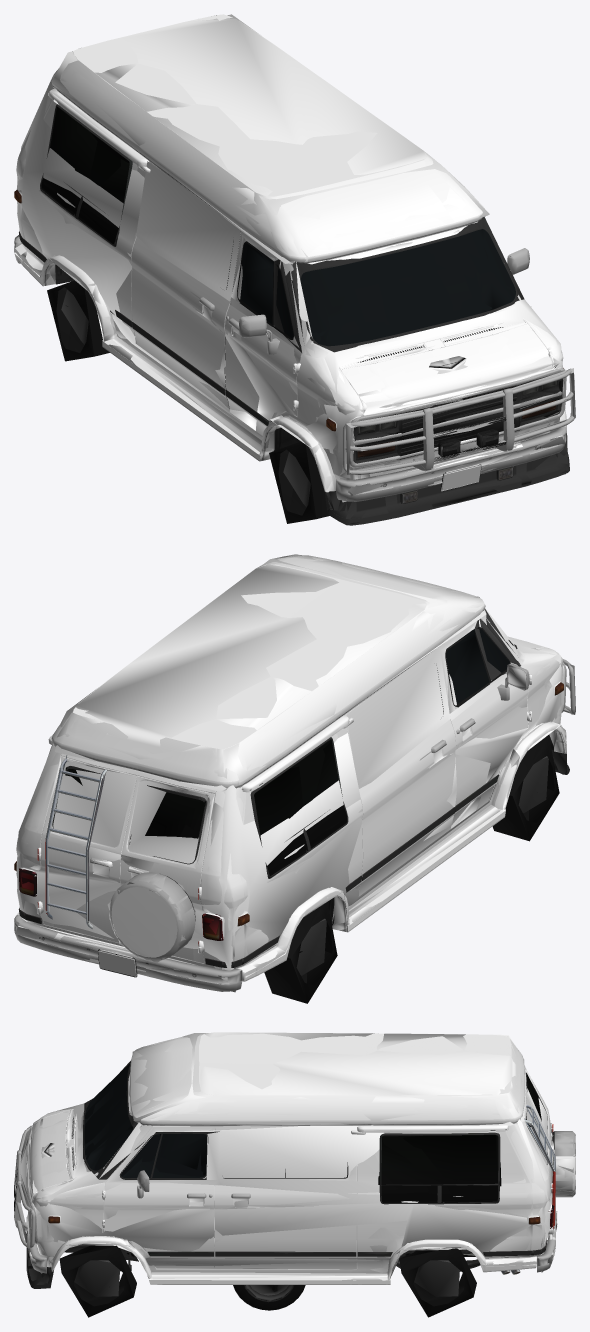
The model's file is van5.glb.
3 views of the same model, one above another, from view 1: azimuth 30°, elevation 25°; view 2: azimuth 150°, elevation 25°; view 3: azimuth 270°, elevation 25° (orthographic). The views are drawn at different scales.
Visible parts, largest first — view 1: body0, body1, body2; view 2: body0, body2, body1; view 3: body0, body2, body1, wheel1, wheel0.
Boxes of the visible parts, x1=… form: body0: x1=14, y1=14, x2=574, y2=525; body1: x1=14, y1=15, x2=574, y2=525; body2: x1=14, y1=14, x2=575, y2=524; body0: x1=14, y1=555, x2=575, y2=991; body2: x1=15, y1=554, x2=575, y2=1003; body1: x1=14, y1=555, x2=575, y2=991; body0: x1=14, y1=1032, x2=575, y2=1288; body2: x1=14, y1=1033, x2=575, y2=1317; body1: x1=14, y1=1032, x2=575, y2=1288; wheel1: x1=233, y1=1285, x2=305, y2=1310; wheel0: x1=233, y1=1285, x2=305, y2=1310.
Bounding box in the file's own units: 2.36 × 2.46 × 5.2.
Materials: 6 (3 with a texture image).
